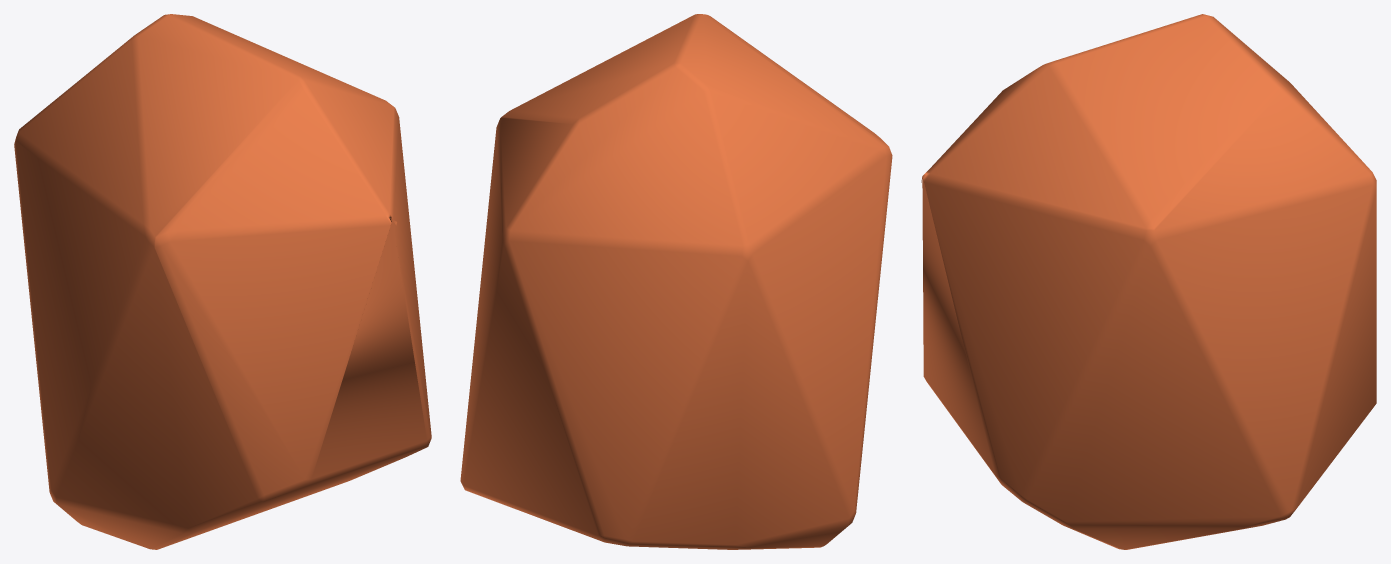
The model's file is rock1.fbx.
3 views of the same model, side by side, from view 1: azimuth 30°, elevation 25°; view 2: azimuth 150°, elevation 25°; view 3: azimuth 270°, elevation 25° (orthographic). The views are drawn at different scales.
Parts seen in each view (by area): view 1: Icosphere; view 2: Icosphere; view 3: Icosphere.
Boxes of the visible parts, left/top/right/bottom form: Icosphere: left=14, top=14, right=431, bottom=549; Icosphere: left=460, top=14, right=892, bottom=549; Icosphere: left=921, top=14, right=1376, bottom=549.
Size of the model in its own units: 188 by 247 by 214.
